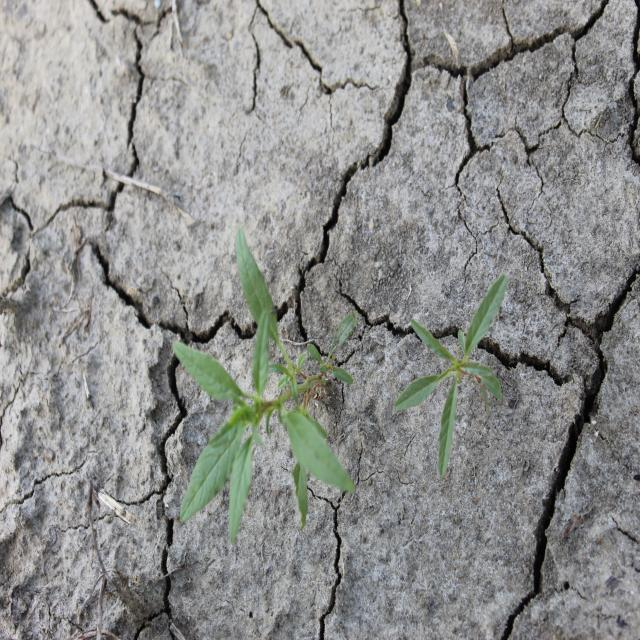Waterhemp: (171, 225, 360, 546), (394, 273, 509, 478)
